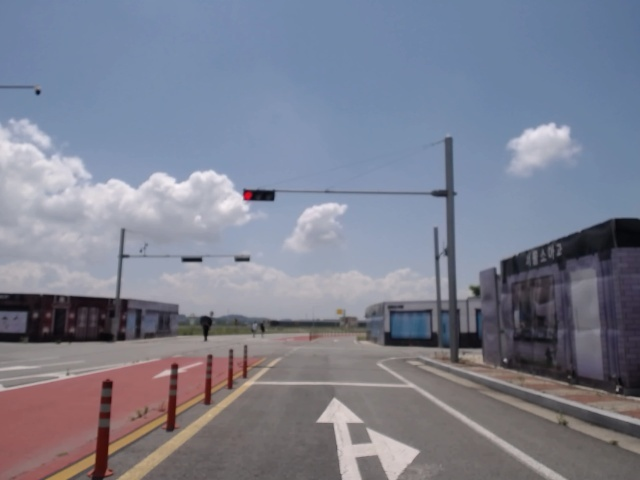red_3: (242, 189, 277, 201)
